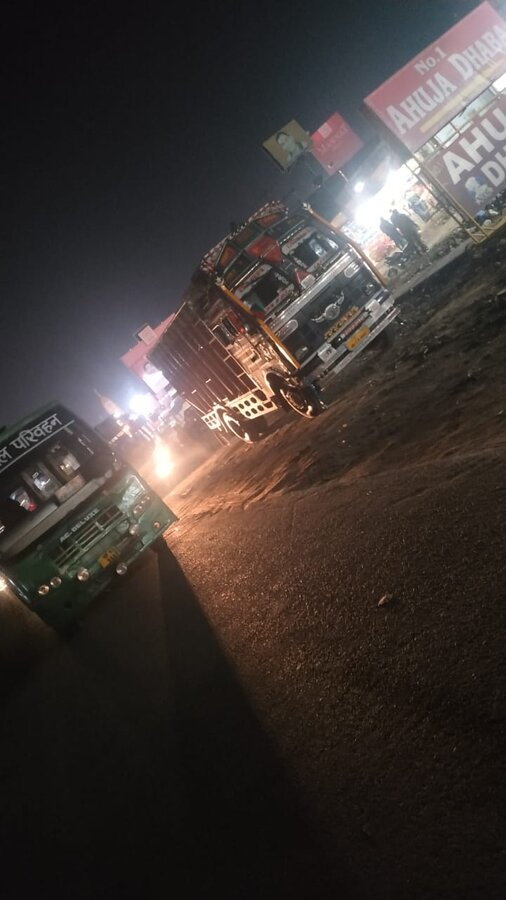bus: (1, 404, 177, 623)
truck: (207, 221, 397, 408)
